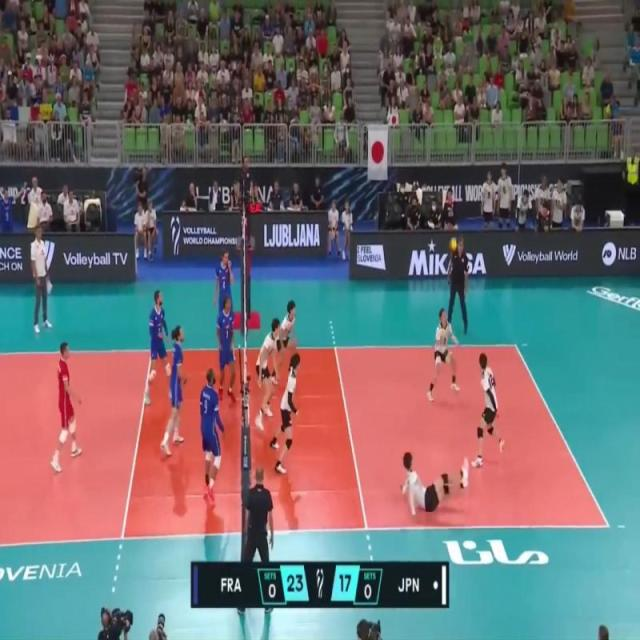volleyball: (448, 237, 458, 251)
